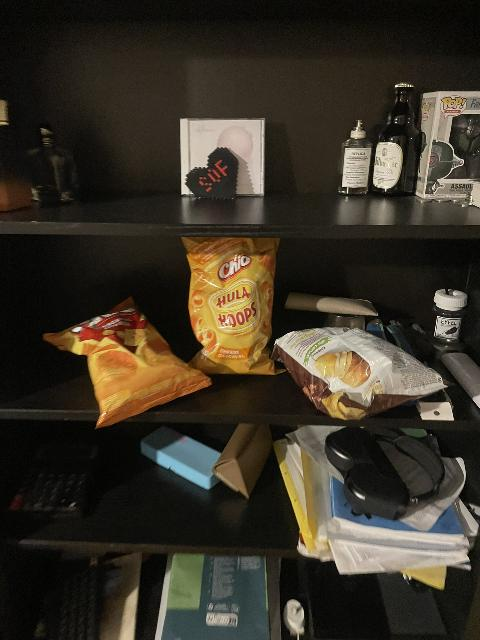Chio Cascaval 125g: (42, 299, 214, 427)
Chio Hula Hoops Cheese 70g: (180, 236, 283, 376)
Lays Beef Grilled Ribs 125g: (275, 322, 449, 421)
